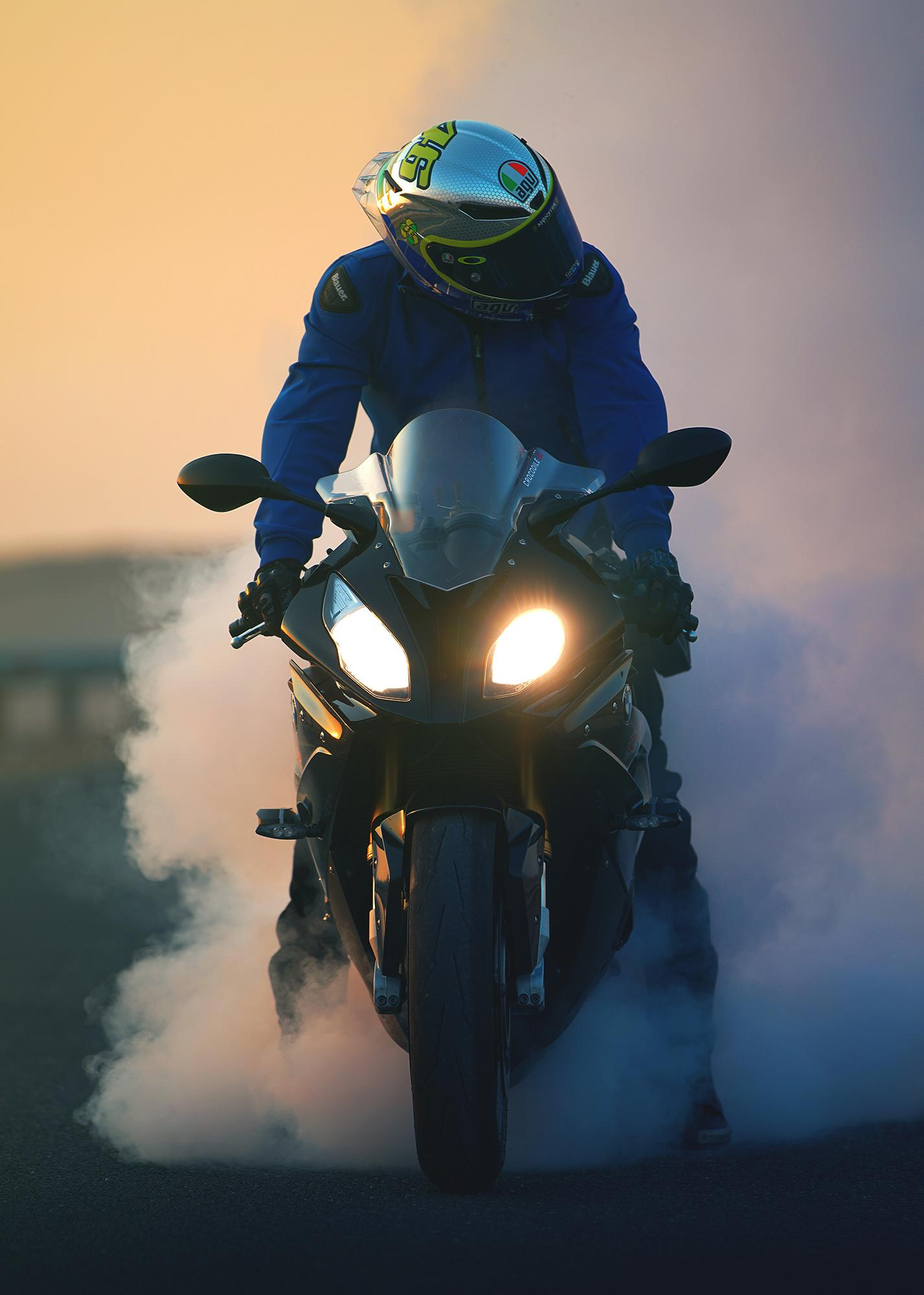helmet: (350, 118, 586, 325)
